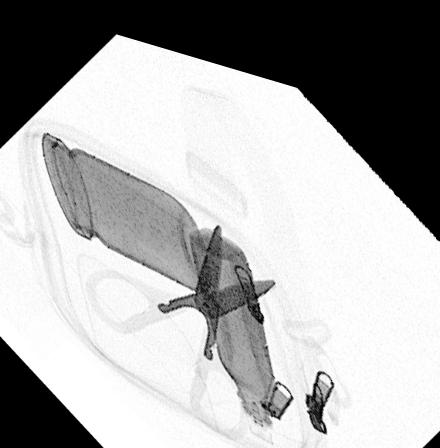Scissors: (84, 211, 276, 430)
